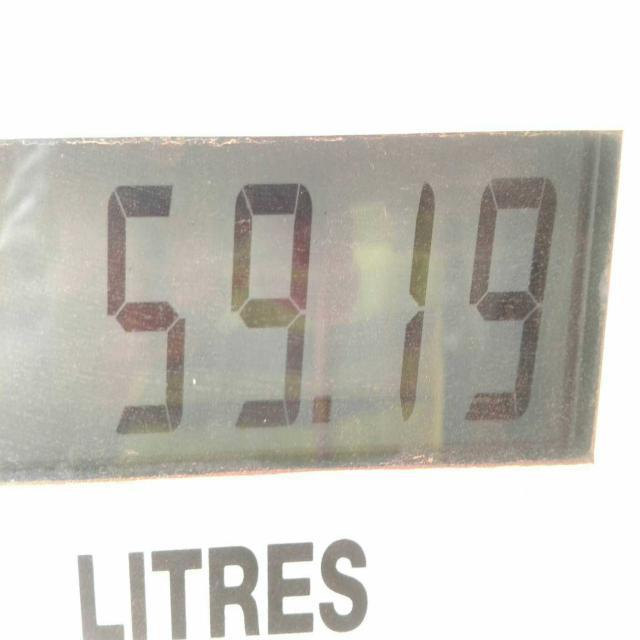.: (306, 395, 339, 430)
1: (396, 179, 446, 429)
5: (105, 184, 190, 436)
9: (466, 170, 558, 432), (228, 180, 308, 431)
screen: (0, 138, 620, 477)
